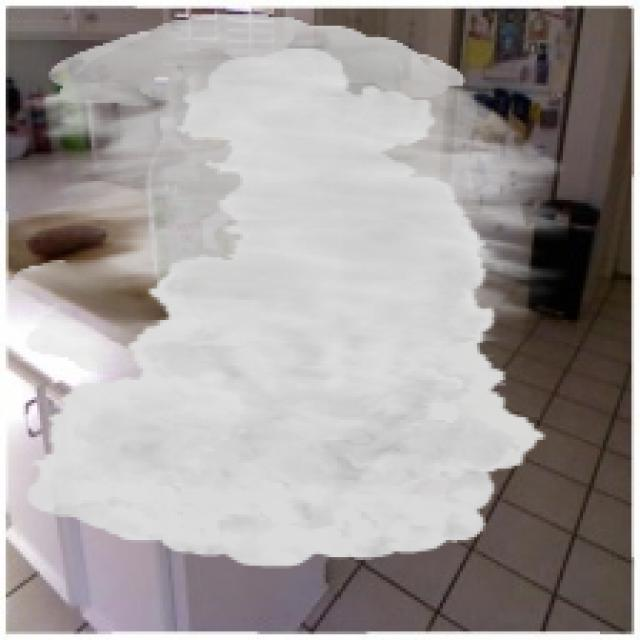smoke: (6, 14, 568, 569)
